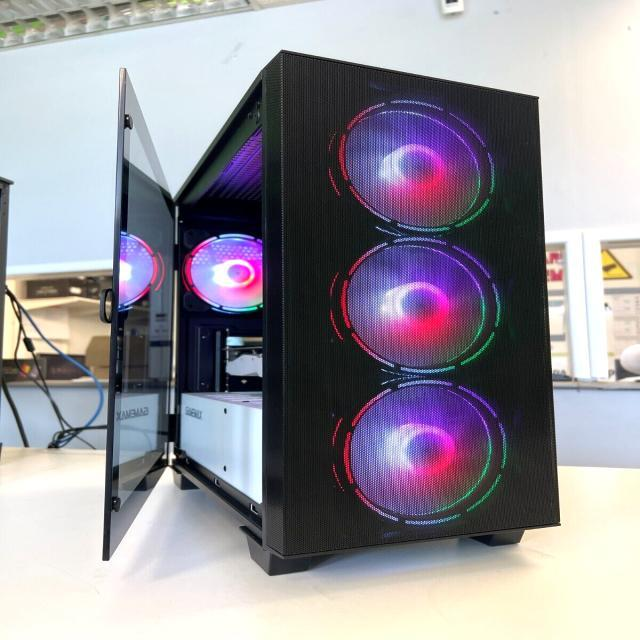Desktop-PC: (84, 42, 576, 588)
